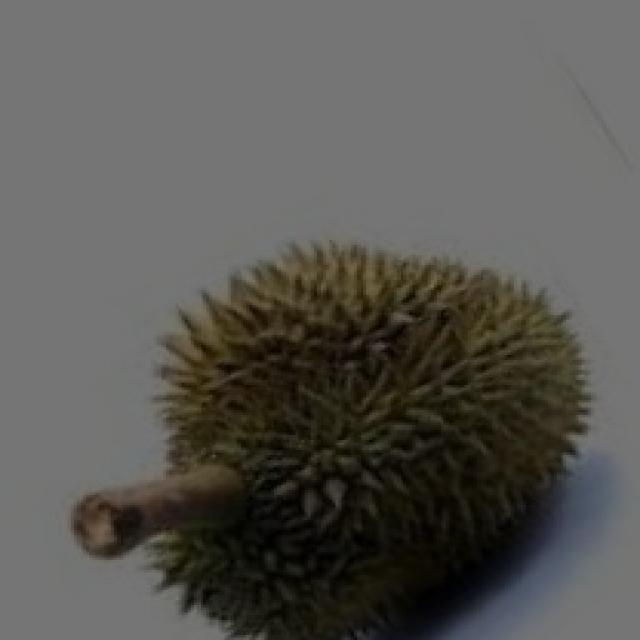fruit: (249, 208, 640, 608)
